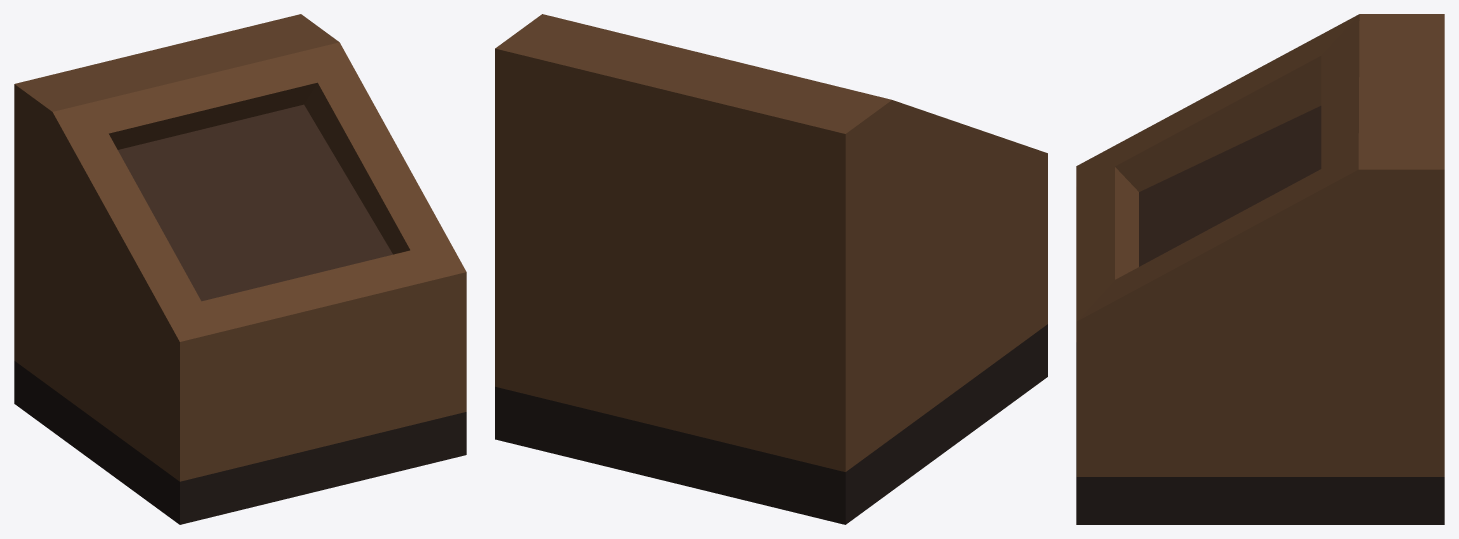
File: bacsBois_x1.fbx
3 views of the same model, side by side, from view 1: azimuth 30°, elevation 25°; view 2: azimuth 150°, elevation 25°; view 3: azimuth 270°, elevation 25° (orthographic). The views are drawn at different scales.
Parts seen in each view (by area): view 1: Cube.016; view 2: Cube.016; view 3: Cube.016.
Part boxes in pixels (x1=…): Cube.016: x1=14, y1=14, x2=466, y2=524; Cube.016: x1=495, y1=14, x2=1047, y2=524; Cube.016: x1=1076, y1=14, x2=1444, y2=524.
Size of the model in its own units: 100 by 107 by 100.
